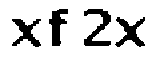2: (80, 5, 112, 49)
f: (47, 8, 72, 49)
x: (115, 16, 148, 48), (11, 13, 41, 48)
